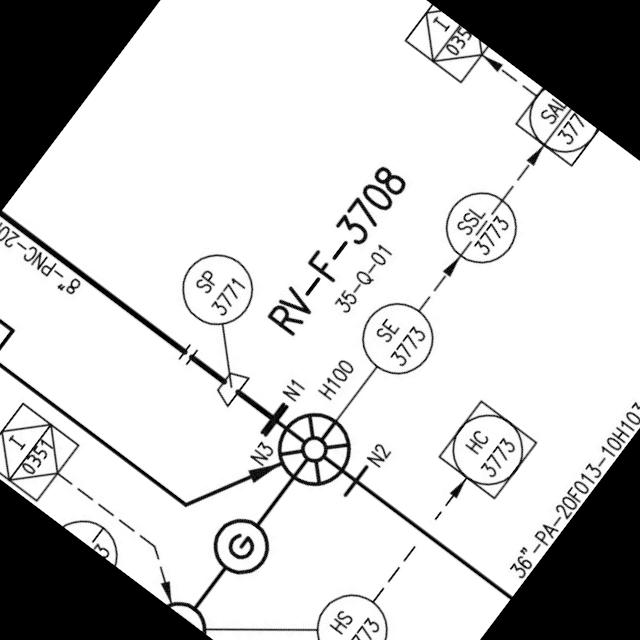RV1: (258, 394, 366, 502)
SP: (208, 361, 253, 408)
